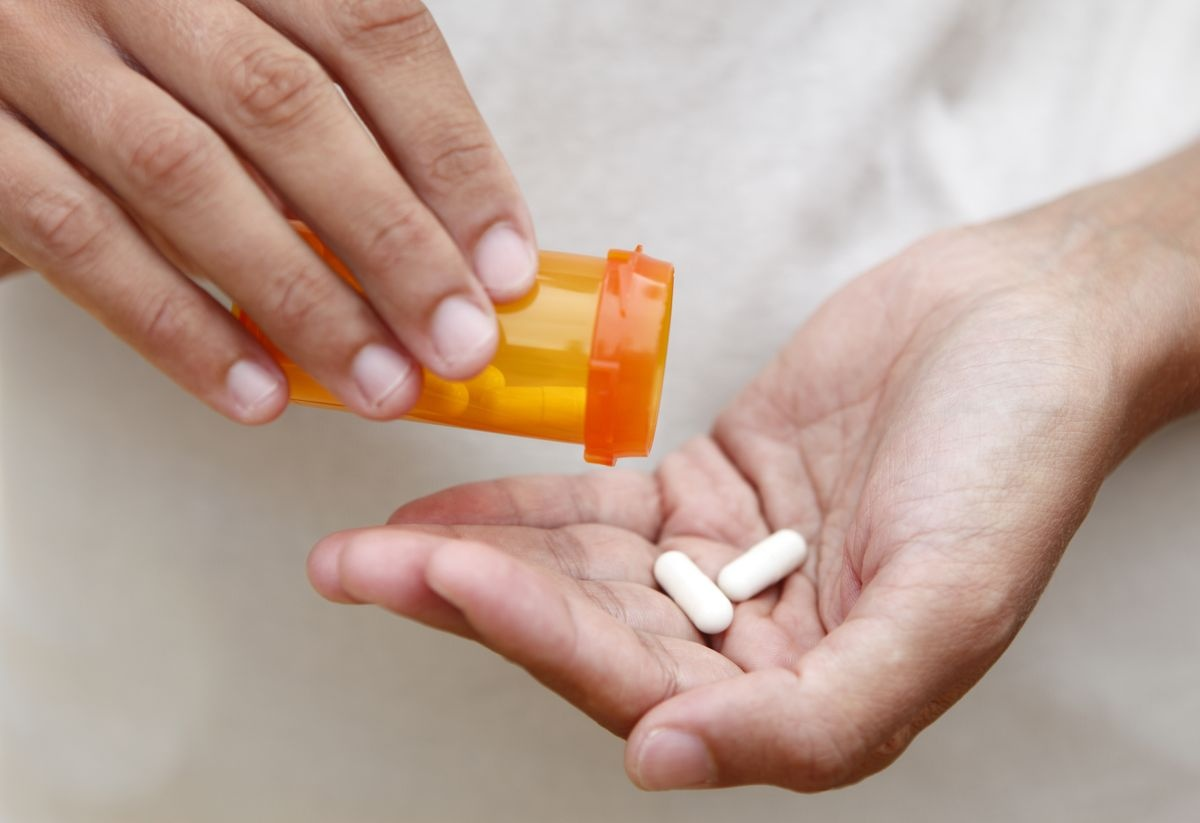pills: (717, 523, 827, 602), (647, 548, 727, 640)
